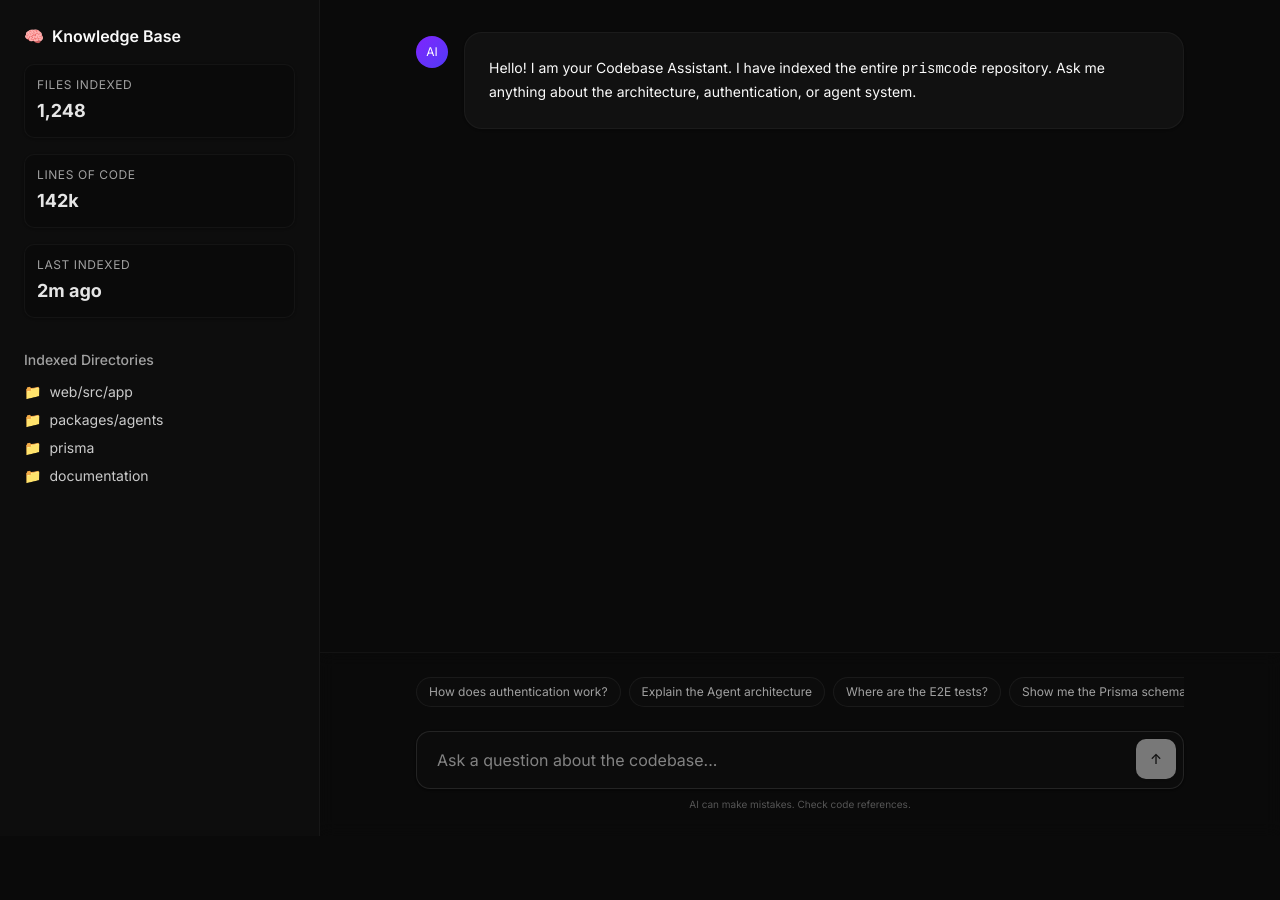
AskPage › sends a query and displays response
Type "How does this work?" into the field with placeholder "Ask a question about the codebase..." at (800, 760), box [416, 731, 1184, 789]
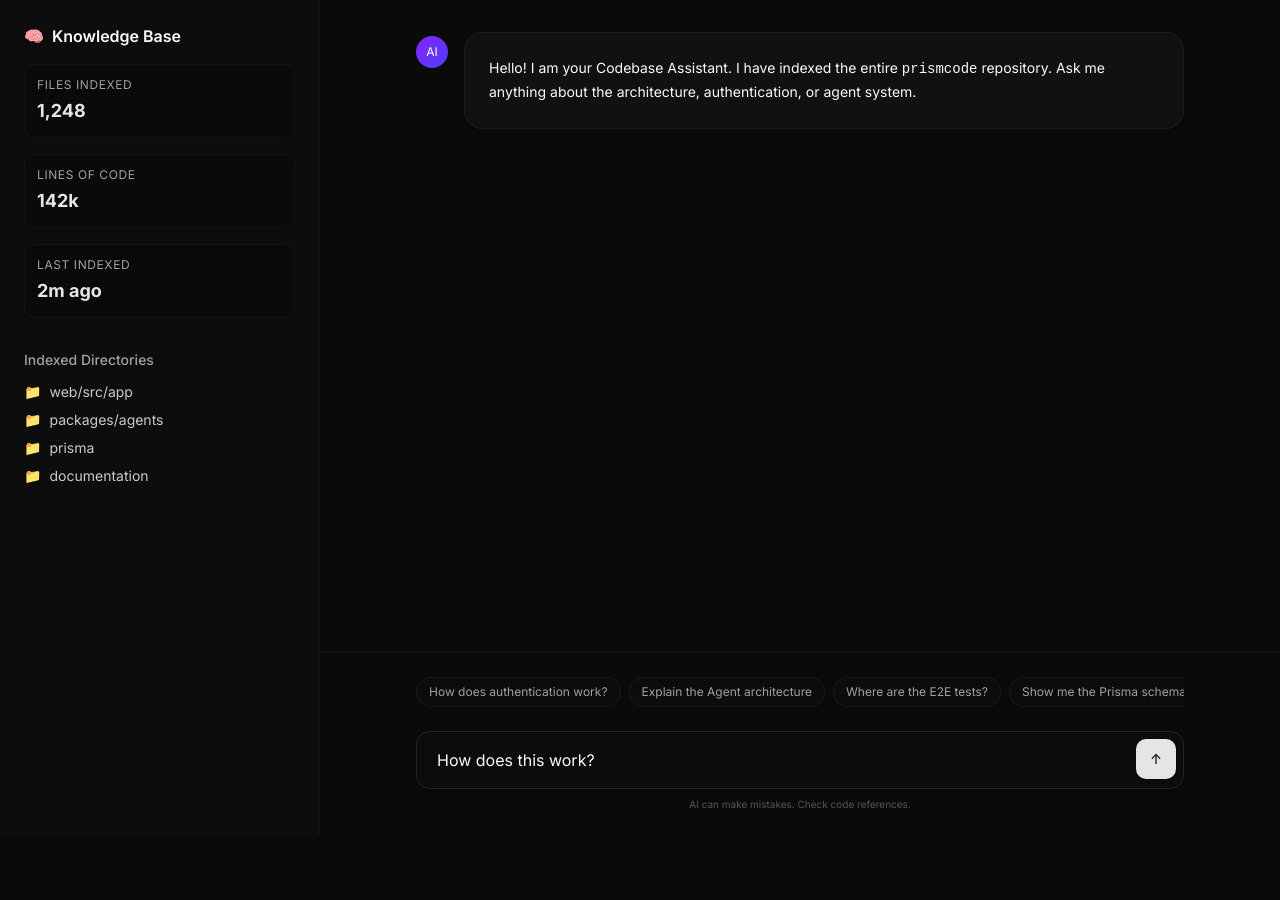
Submit the form with placeholder "Ask a question", box [416, 731, 1184, 789]
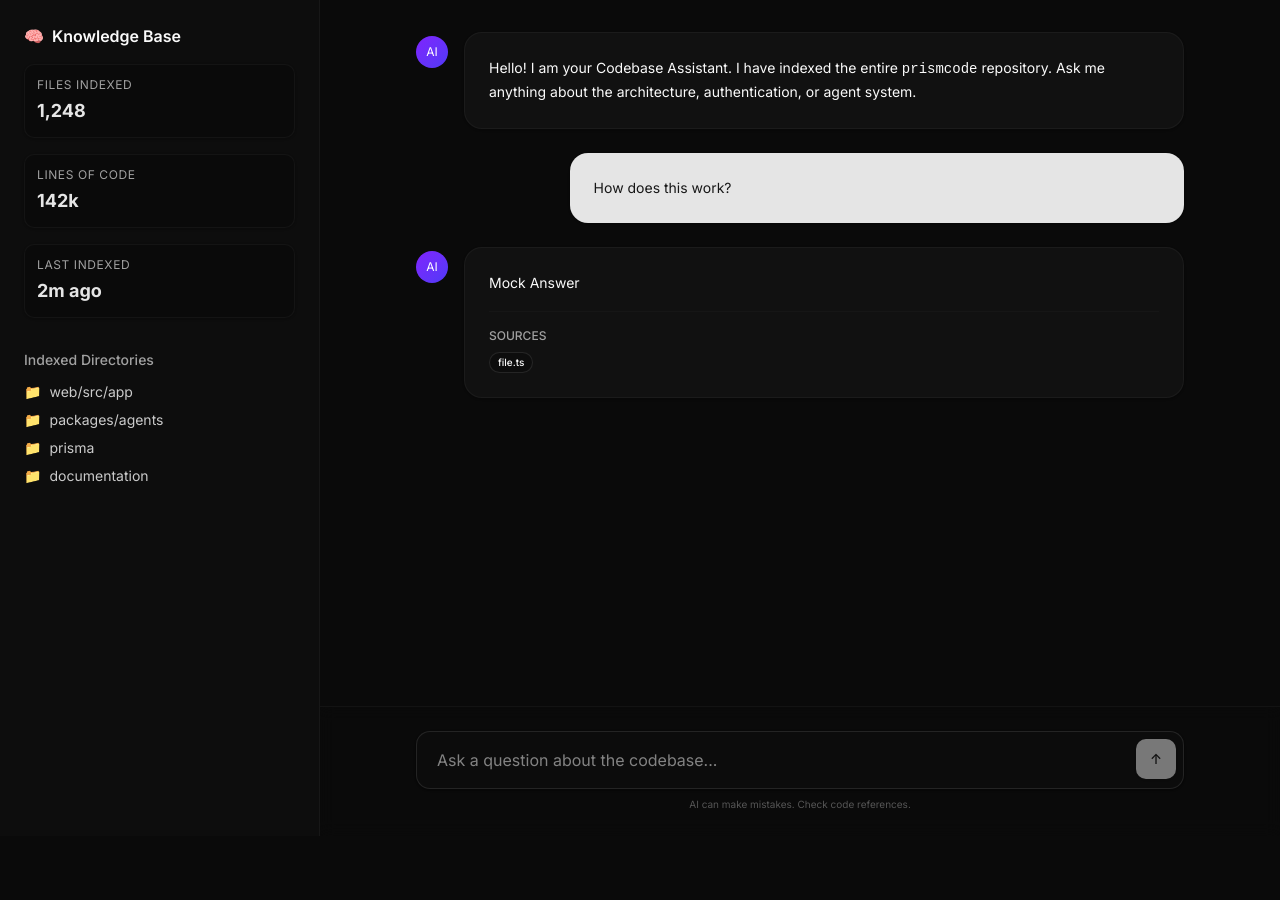
Expected: the text "Mock Answer" is shown, [489, 274, 580, 291]
Expected: the text "file.ts" is shown, [489, 352, 534, 373]
